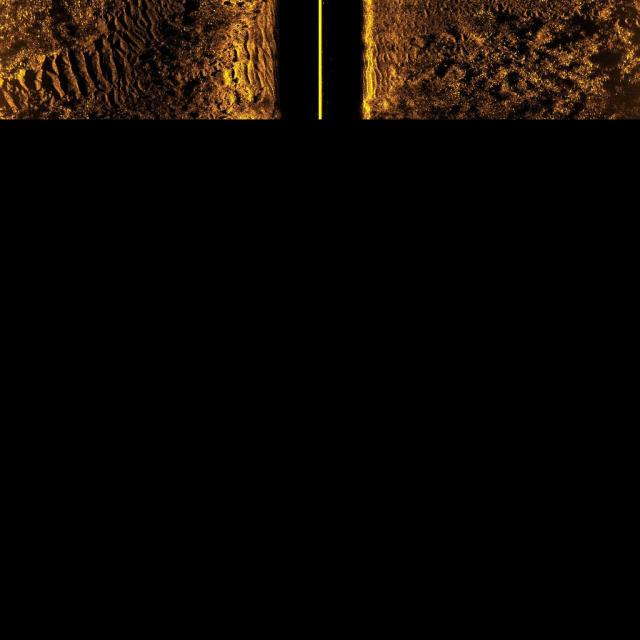mine: (222, 0, 238, 7)
